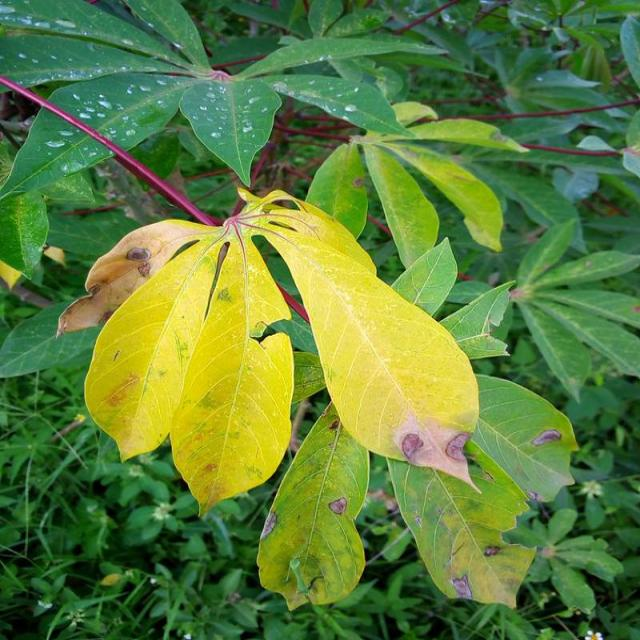cassava leaf: (235, 185, 482, 492), (83, 219, 295, 517), (255, 400, 370, 611)
